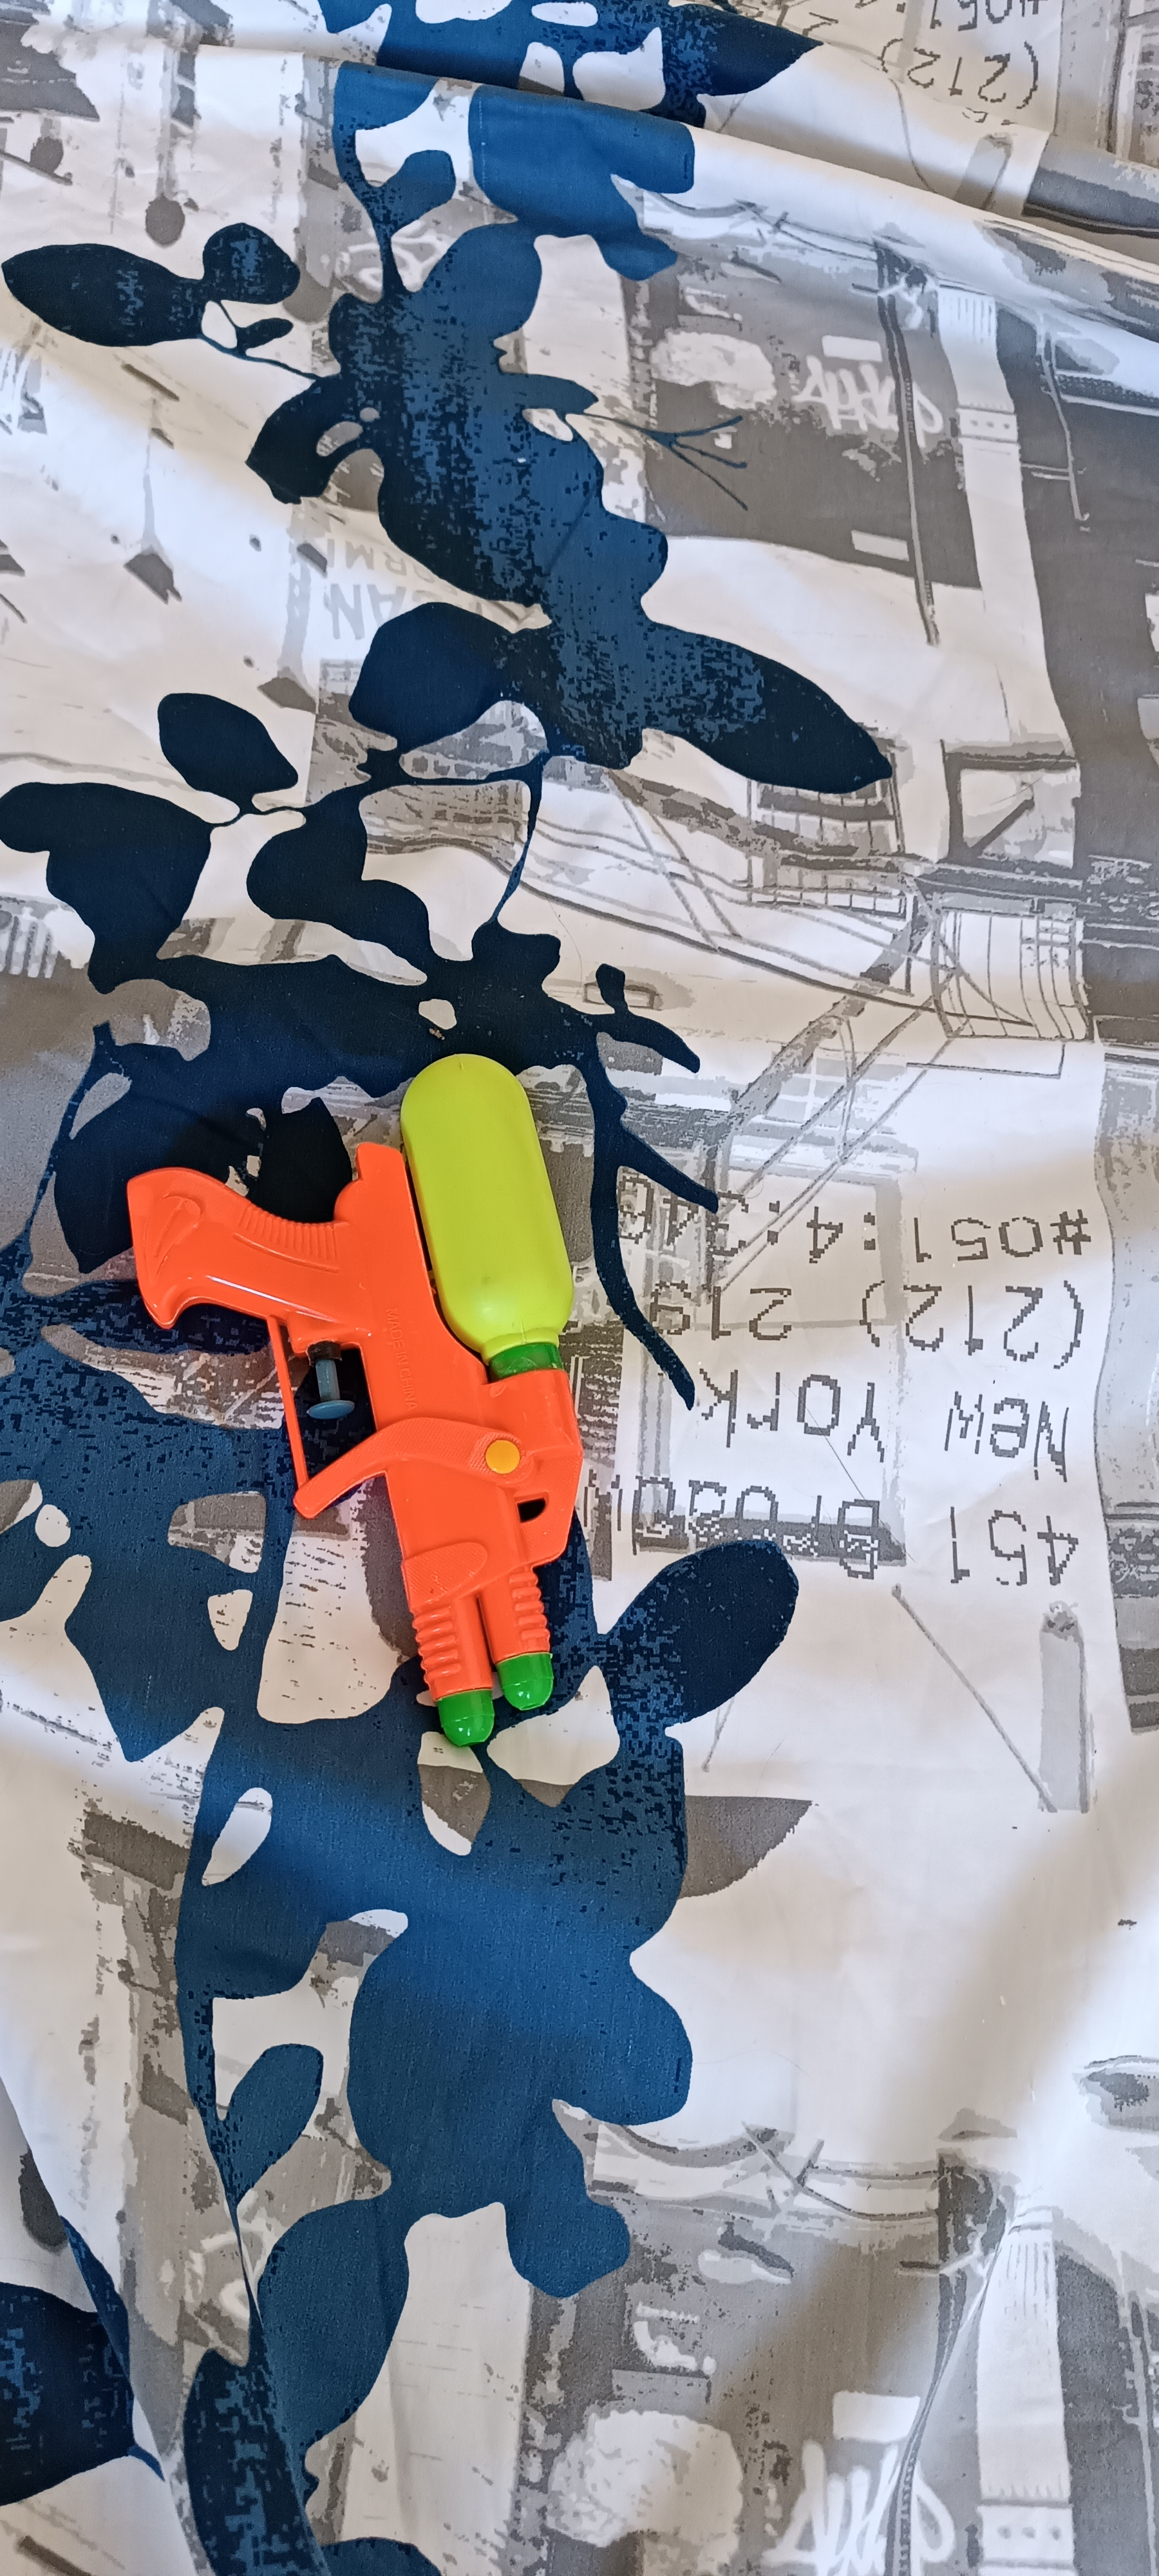Water Gun: (125, 1053, 584, 1748)
